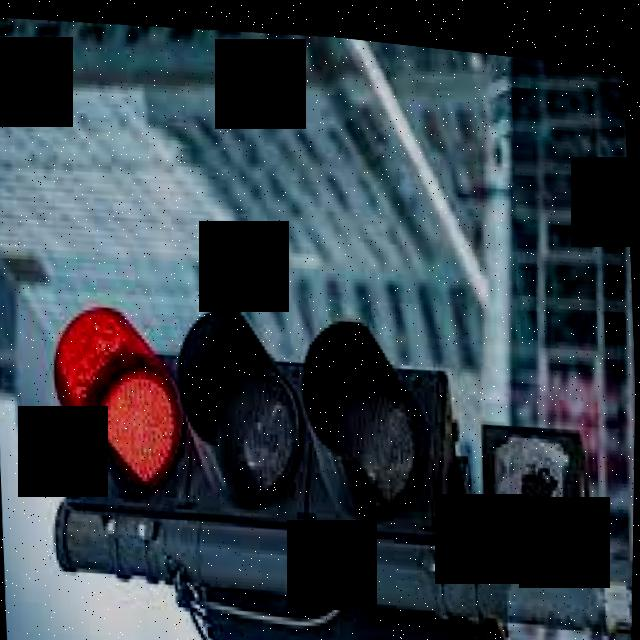red: (45, 255, 489, 640)
